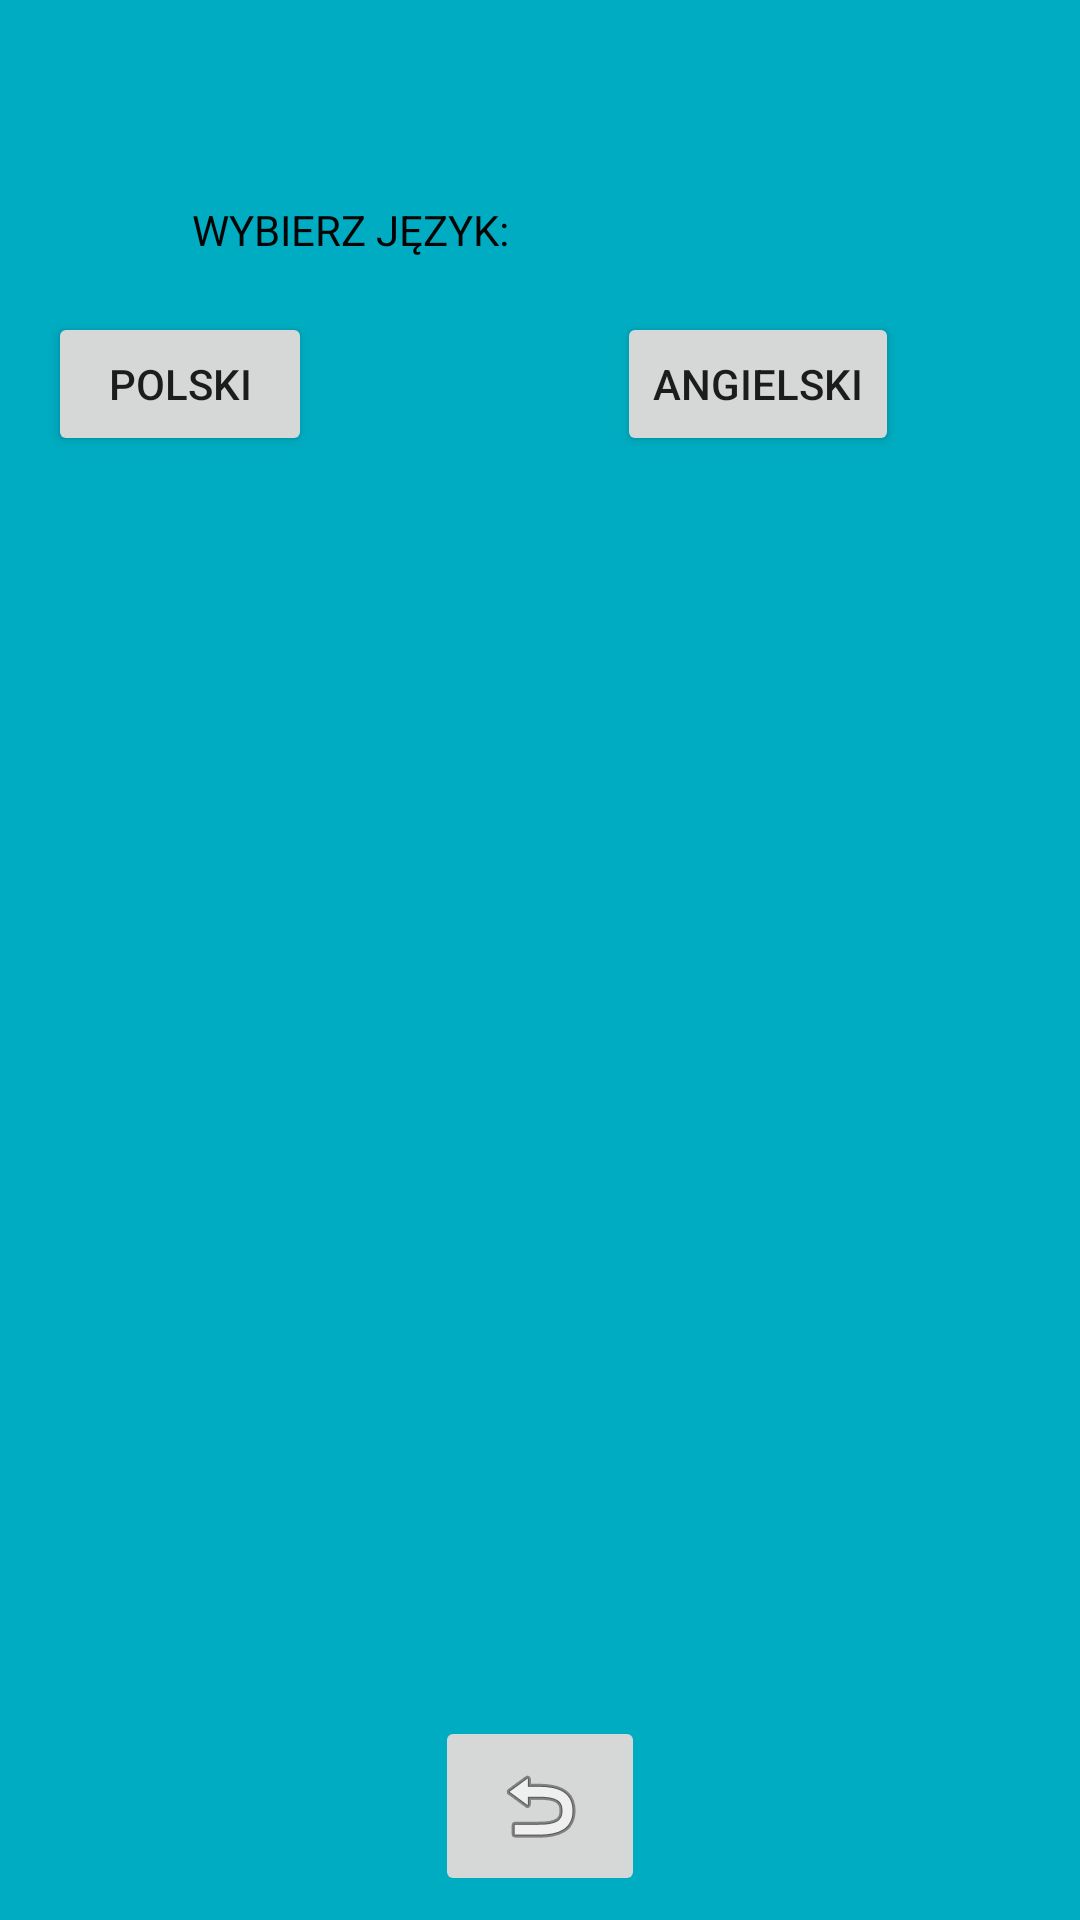

Icon click points for this 1080 x 1920 phone screenshot, format (x=x, y=y):
revert: (x=540, y=1806)
